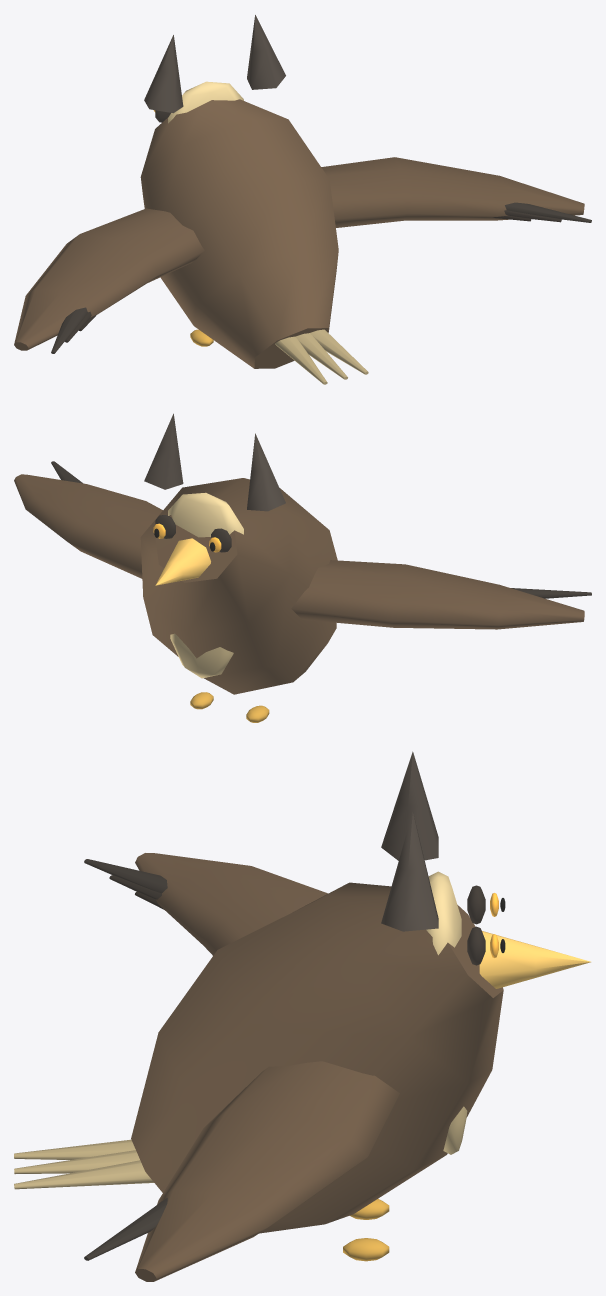
The model's file is owl_mobile.glb.
3 views of the same model, one above another, from view 1: azimuth 30°, elevation 25°; view 2: azimuth 150°, elevation 25°; view 3: azimuth 270°, elevation 25° (orthographic). The views are drawn at different scales.
Parts seen in each view (by area): view 1: OwlOrganicBody, Wing, Wing2, EarTuftDetail_L, EarTuftDetail_R, FacialDisc, TailFeatherDetail_-1, TailFeatherDetail_1, TailFeatherDetail_0, PrimaryFeatherDetail_022, PrimaryFeatherDetail_02; view 2: OwlOrganicBody, Wing, Wing2, FacialDisc, EarTuftDetail_L, HookedBeak, EarTuftDetail_R, ChestRuff, PrimaryFeatherDetail_02; view 3: OwlOrganicBody, Wing2, Wing, EarTuftDetail_R, HookedBeak, EarTuftDetail_L, TailFeatherDetail_1, FacialDisc, TailFeatherDetail_0, TailFeatherDetail_-1, PrimaryFeatherDetail_022, PrimaryFeatherDetail_02 (+1 smaller).
Boxes of the visible parts, x1=… form: OwlOrganicBody: x1=140, y1=99, x2=338, y2=368; Wing: x1=14, y1=208, x2=204, y2=350; Wing2: x1=321, y1=157, x2=584, y2=227; EarTuftDetail_L: x1=144, y1=35, x2=183, y2=113; EarTuftDetail_R: x1=247, y1=15, x2=285, y2=89; FacialDisc: x1=168, y1=81, x2=243, y2=123; TailFeatherDetail_-1: x1=275, y1=336, x2=327, y2=384; TailFeatherDetail_1: x1=310, y1=329, x2=368, y2=374; TailFeatherDetail_0: x1=295, y1=333, x2=347, y2=379; PrimaryFeatherDetail_022: x1=505, y1=202, x2=591, y2=222; PrimaryFeatherDetail_02: x1=51, y1=307, x2=87, y2=353; OwlOrganicBody: x1=140, y1=478, x2=337, y2=694; Wing: x1=291, y1=560, x2=584, y2=629; Wing2: x1=14, y1=474, x2=162, y2=578; FacialDisc: x1=168, y1=492, x2=243, y2=537; EarTuftDetail_L: x1=247, y1=433, x2=285, y2=511; HookedBeak: x1=155, y1=538, x2=210, y2=585; EarTuftDetail_R: x1=144, y1=413, x2=183, y2=489; ChestRuff: x1=170, y1=633, x2=233, y2=678; PrimaryFeatherDetail_02: x1=511, y1=588, x2=591, y2=598; OwlOrganicBody: x1=131, y1=882, x2=503, y2=1233; Wing2: x1=135, y1=1061, x2=399, y2=1281; Wing: x1=135, y1=853, x2=327, y2=955; EarTuftDetail_R: x1=381, y1=811, x2=438, y2=931; HookedBeak: x1=479, y1=931, x2=590, y2=988; EarTuftDetail_L: x1=381, y1=751, x2=438, y2=860; TailFeatherDetail_1: x1=14, y1=1160, x2=153, y2=1189; FacialDisc: x1=426, y1=871, x2=461, y2=955; TailFeatherDetail_0: x1=14, y1=1150, x2=139, y2=1174; TailFeatherDetail_-1: x1=14, y1=1139, x2=135, y2=1159; PrimaryFeatherDetail_022: x1=84, y1=1198, x2=167, y2=1260; PrimaryFeatherDetail_02: x1=84, y1=859, x2=167, y2=893.
Size of the model in its own units: 4.51 by 2.29 by 2.62.
